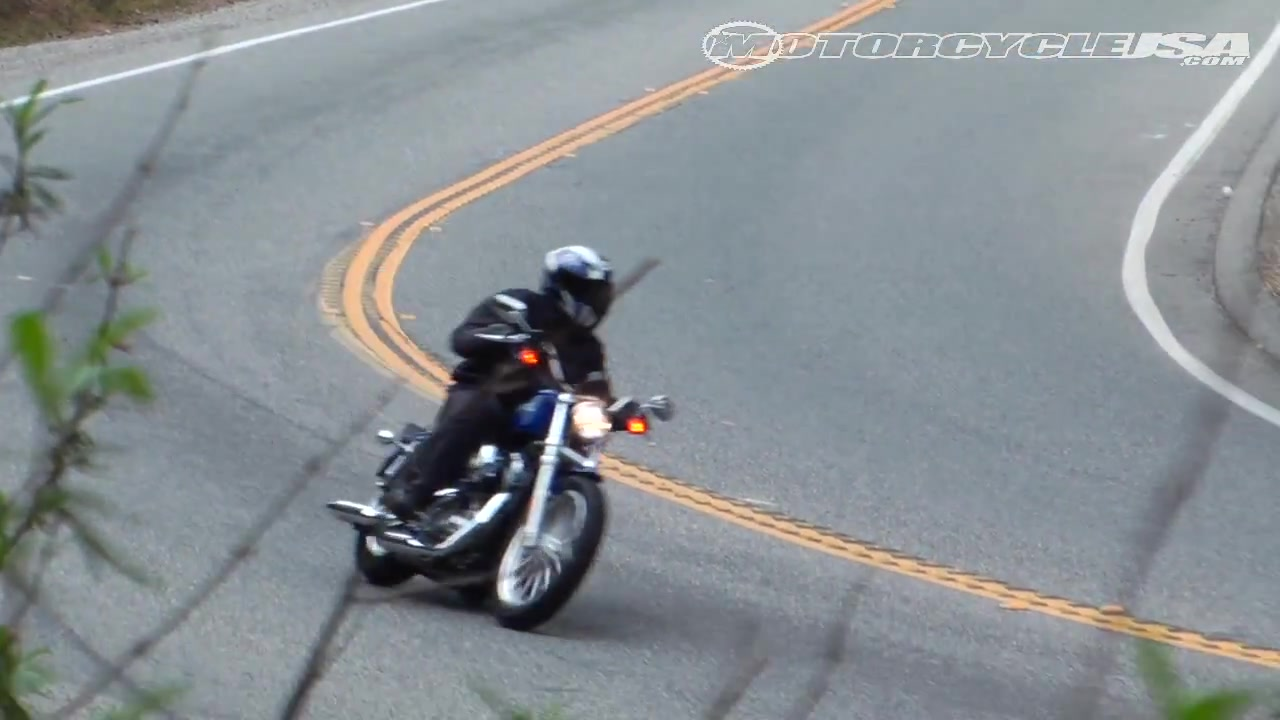motorbike: (325, 328, 675, 632)
